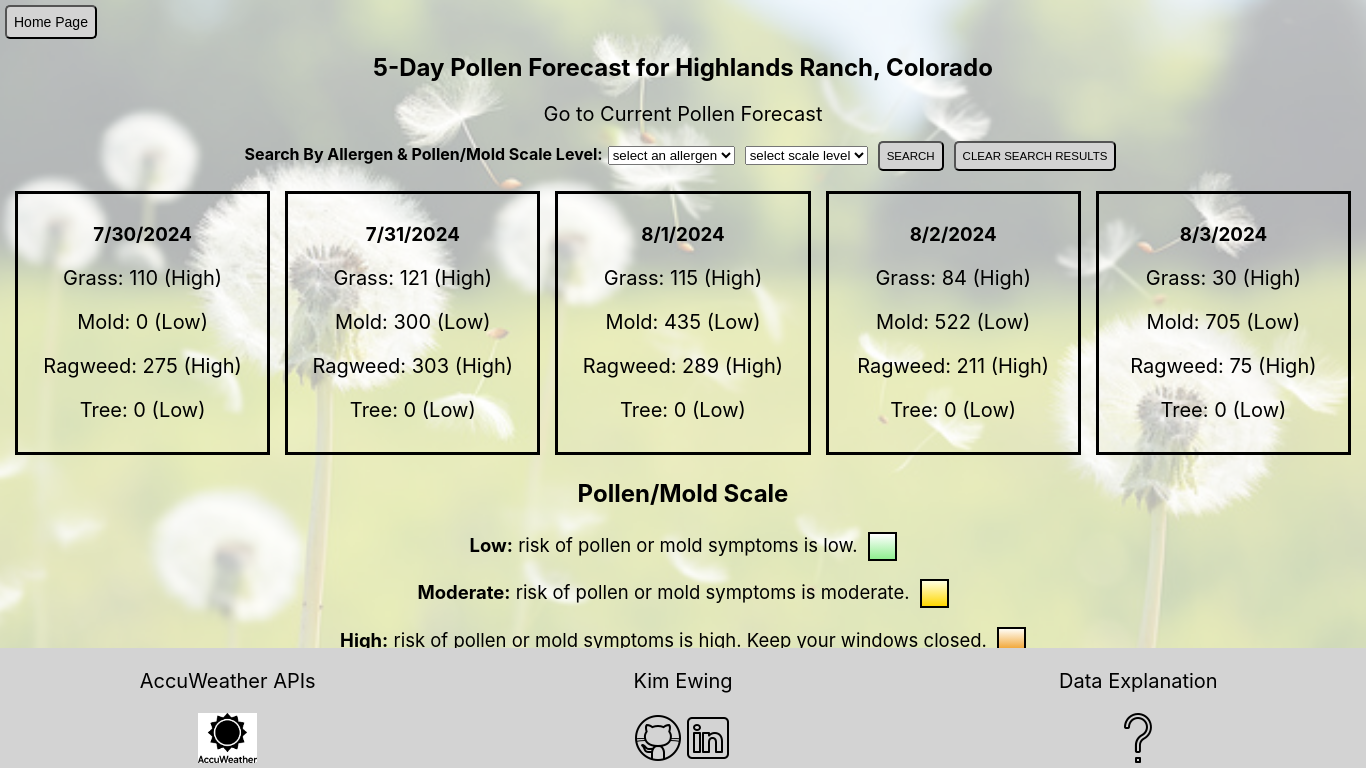
it: 5-Day Pollen Forecast Page Tests › should select an allergen and a pollen/mold scale level in the drop down inputs and hit submit, returning a message and any pollen forecasts that match the sear
The image size is (1366, 768).
Select "Grass" in the dropdown with class "allergen-drop-down". click: [672, 156]
box: x1=608 y1=146 x2=735 y2=165
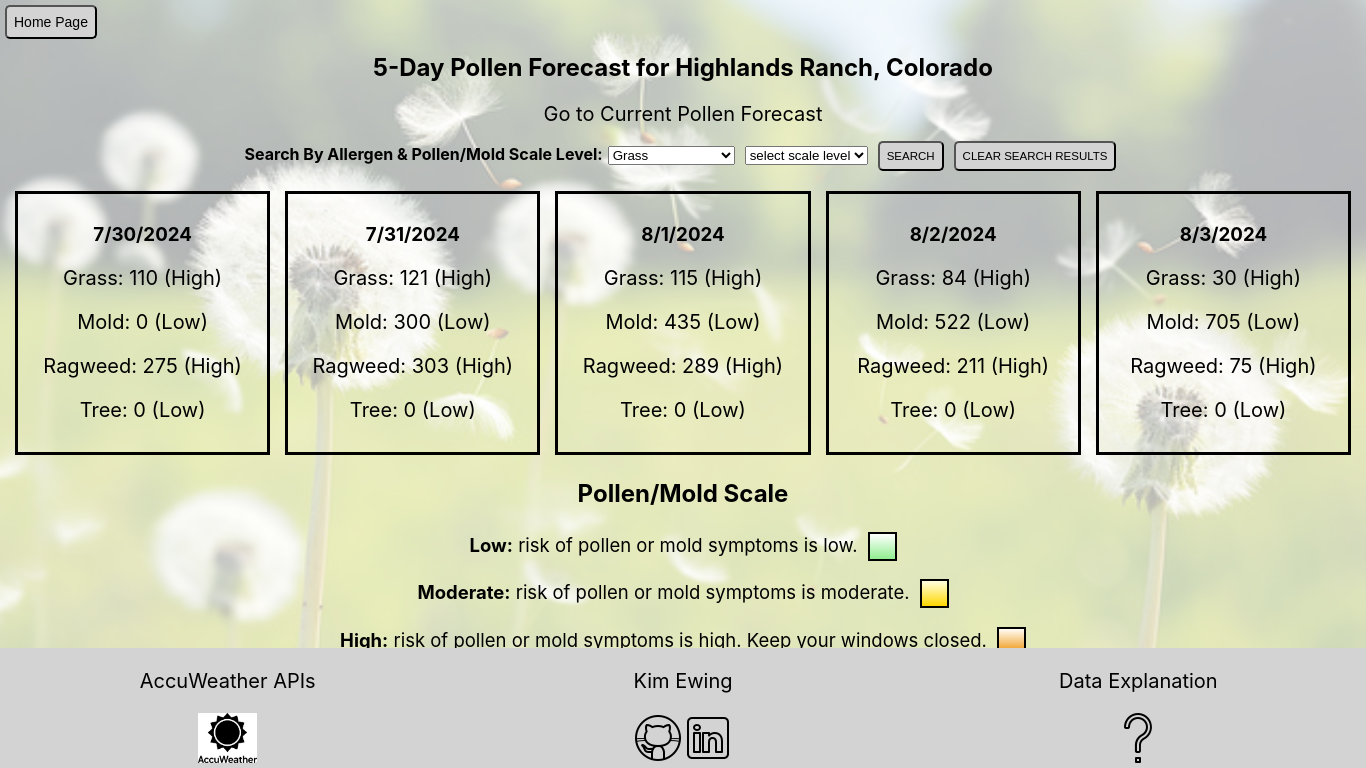
Select "High" in the 2nd dropdown. click: [807, 156]
box: x1=745 y1=146 x2=868 y2=165
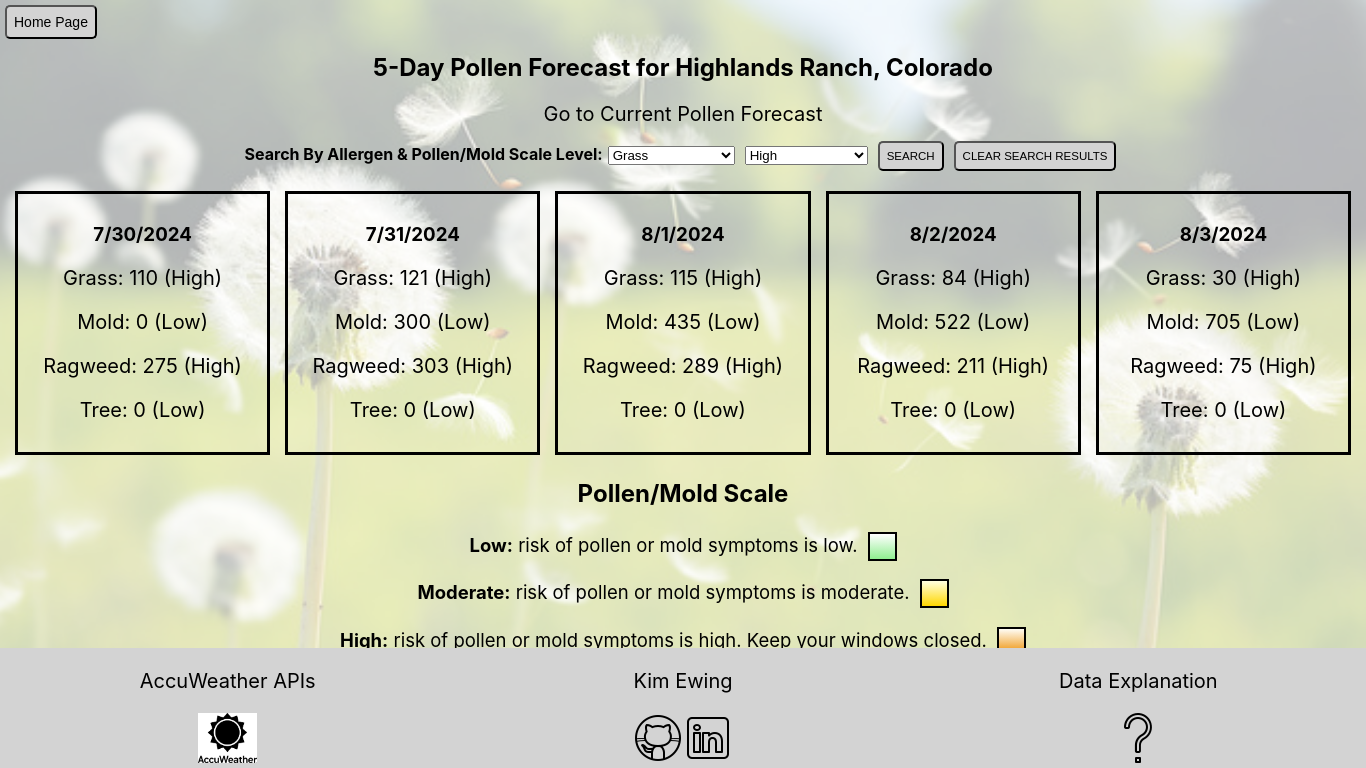
Click the button with class "search-button". click: [911, 156]
box: x1=878 y1=141 x2=944 y2=171
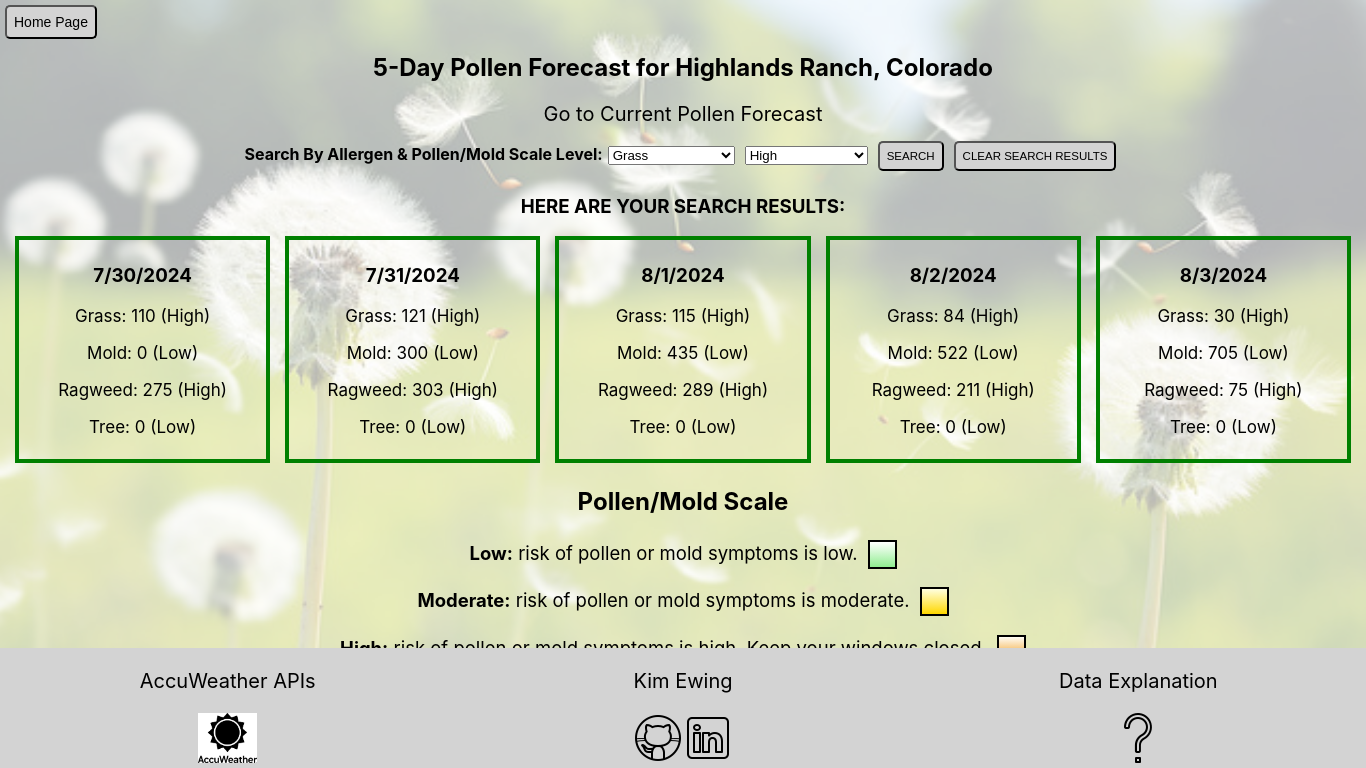
Check: the heading "7/30/2024" is shown, box x1=93 y1=264 x2=192 y2=287
Check: the heading "HERE ARE YOUR SEARCH RESULTS:" is shown, box x1=521 y1=195 x2=845 y2=218
Check: the number of elements with class "search-result-pollen-forecast-card" is 5, box x1=15 y1=236 x2=270 y2=463; x1=285 y1=236 x2=540 y2=463; x1=555 y1=236 x2=811 y2=463; x1=826 y1=236 x2=1081 y2=463; x1=1096 y1=236 x2=1351 y2=463
